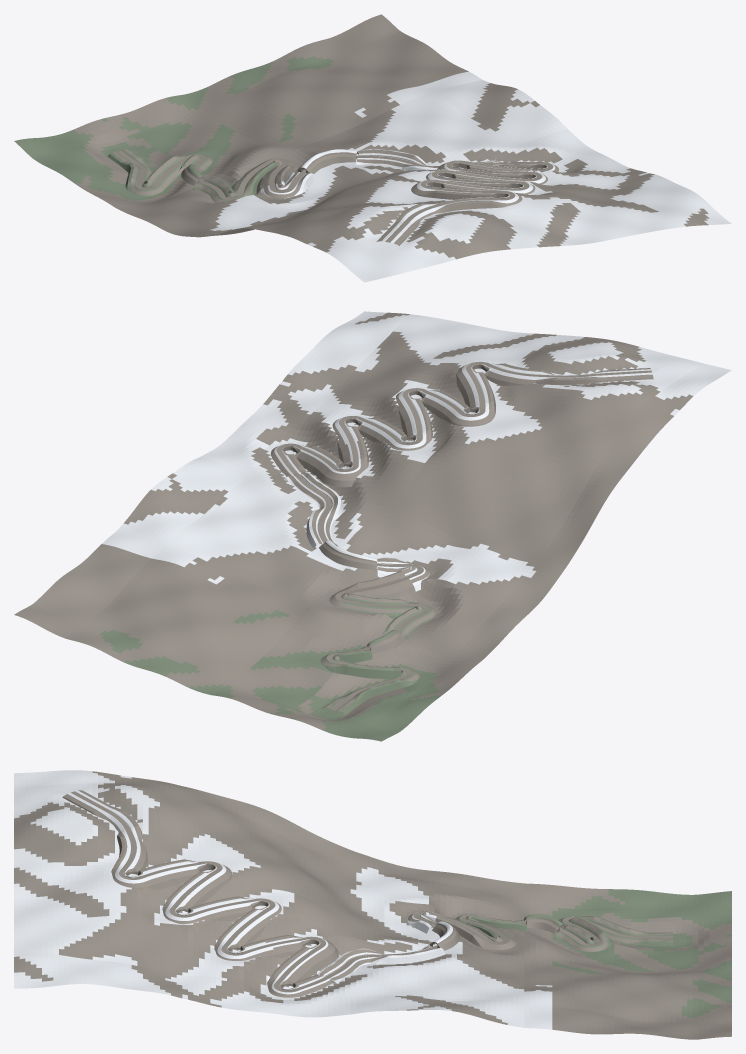
File: Dag_Arazi.fbx
3 views of the same model, one above another, from view 1: azimuth 30°, elevation 25°; view 2: azimuth 150°, elevation 25°; view 3: azimuth 270°, elevation 25° (orthographic). The views are drawn at different scales.
Parts seen in each view (by area): view 1: Arazi_Dis_01, Arazi_Dis_03, Arazi_Dis_02, Arazi_Dis_08, Arazi_Dis_07, Arazi_Dis_04, Arazi_Dis_05, Arazi_Dis_06, Arazi_Yamac_08, Arazi_Yamac_01, Arazi_Yamac_02, Arazi_Yamac_07 (+5 smaller); view 2: Arazi_Dis_06, Arazi_Dis_01, Arazi_Dis_03, Arazi_Dis_04, Arazi_Dis_02, Arazi_Dis_07, Arazi_Dis_08, Arazi_Dis_05, Arazi_Yamac_07, Arazi_Yamac_05, Arazi_Yamac_08, Arazi_Yamac_06 (+5 smaller); view 3: Arazi_Dis_07, Arazi_Dis_08, Arazi_Dis_06, Arazi_Dis_02, Arazi_Dis_05, Arazi_Dis_03, Arazi_Dis_01, Arazi_Dis_04, Arazi_Yamac_07, Arazi_Yamac_05, Arazi_Yamac_08, Arazi_Yamac_06 (+6 smaller).
Boxes of the visible parts, bbox=[...] form: Arazi_Dis_01: bbox=[198, 14, 468, 140]; Arazi_Dis_03: bbox=[286, 71, 555, 178]; Arazi_Dis_02: bbox=[14, 91, 284, 200]; Arazi_Dis_08: bbox=[277, 197, 547, 282]; Arazi_Dis_07: bbox=[500, 172, 731, 246]; Arazi_Dis_04: bbox=[102, 141, 372, 236]; Arazi_Dis_05: bbox=[373, 118, 643, 185]; Arazi_Dis_06: bbox=[190, 171, 426, 237]; Arazi_Yamac_08: bbox=[376, 190, 522, 245]; Arazi_Yamac_01: bbox=[107, 148, 212, 196]; Arazi_Yamac_02: bbox=[179, 155, 278, 202]; Arazi_Yamac_07: bbox=[411, 179, 535, 199]; Arazi_Dis_06: bbox=[373, 409, 643, 580]; Arazi_Dis_01: bbox=[14, 544, 284, 691]; Arazi_Dis_03: bbox=[102, 462, 372, 612]; Arazi_Dis_04: bbox=[285, 523, 556, 673]; Arazi_Dis_02: bbox=[198, 613, 468, 741]; Arazi_Dis_07: bbox=[277, 311, 547, 406]; Arazi_Dis_08: bbox=[487, 334, 731, 449]; Arazi_Dis_05: bbox=[189, 387, 459, 522]; Arazi_Yamac_07: bbox=[395, 377, 495, 426]; Arazi_Yamac_05: bbox=[270, 440, 368, 487]; Arazi_Yamac_08: bbox=[456, 361, 653, 391]; Arazi_Yamac_06: bbox=[332, 409, 432, 450]; Arazi_Dis_07: bbox=[14, 870, 193, 1000]; Arazi_Dis_08: bbox=[14, 770, 193, 874]; Arazi_Dis_06: bbox=[193, 788, 372, 935]; Arazi_Dis_02: bbox=[552, 885, 731, 977]; Arazi_Dis_05: bbox=[193, 884, 372, 1017]; Arazi_Dis_03: bbox=[373, 936, 552, 1029]; Arazi_Dis_01: bbox=[552, 963, 731, 1039]; Arazi_Dis_04: bbox=[373, 858, 552, 962]; Arazi_Yamac_07: bbox=[147, 859, 232, 924]; Arazi_Yamac_05: bbox=[262, 935, 338, 997]; Arazi_Yamac_08: bbox=[62, 790, 166, 889]; Arazi_Yamac_06: bbox=[205, 896, 281, 960].
Size of the model in its own units: 1226 by 451 by 2024.
